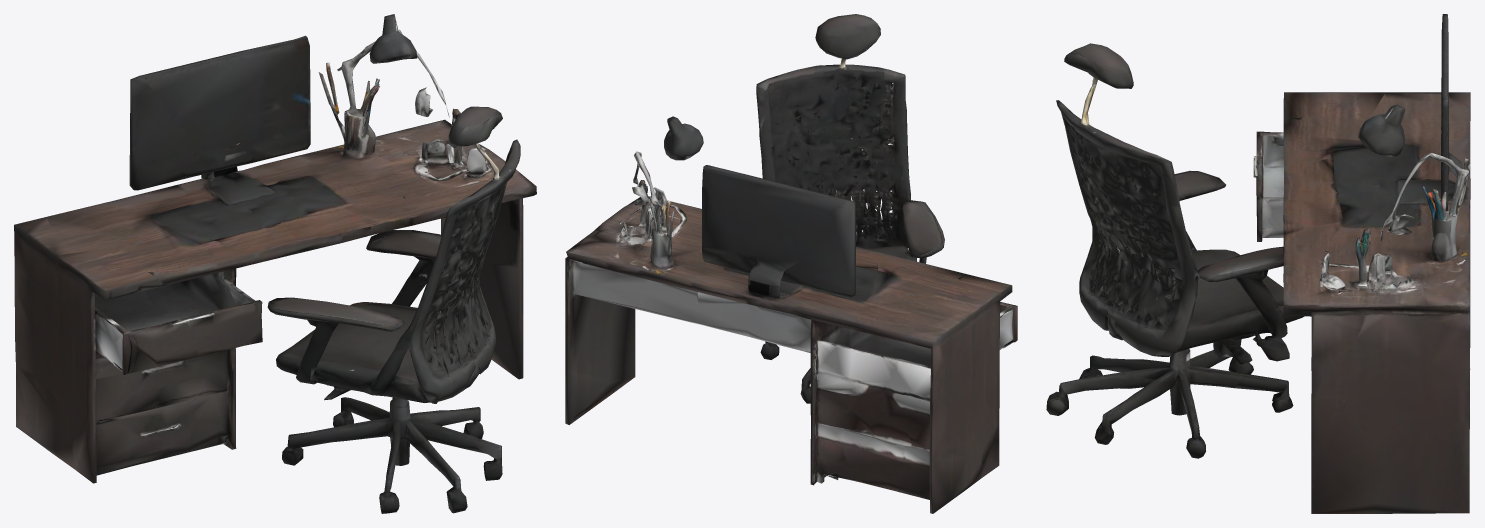
The model's file is mesa2.glb.
The picture shows the model from 3 angles, left to right: view 1: azimuth 30°, elevation 25°; view 2: azimuth 150°, elevation 25°; view 3: azimuth 270°, elevation 25°; orthographic projection. The views are drawn at different scales.
Size of the model in its own units: 1.64 by 1.38 by 1.36.
Materials: 1 (1 with a texture image).
